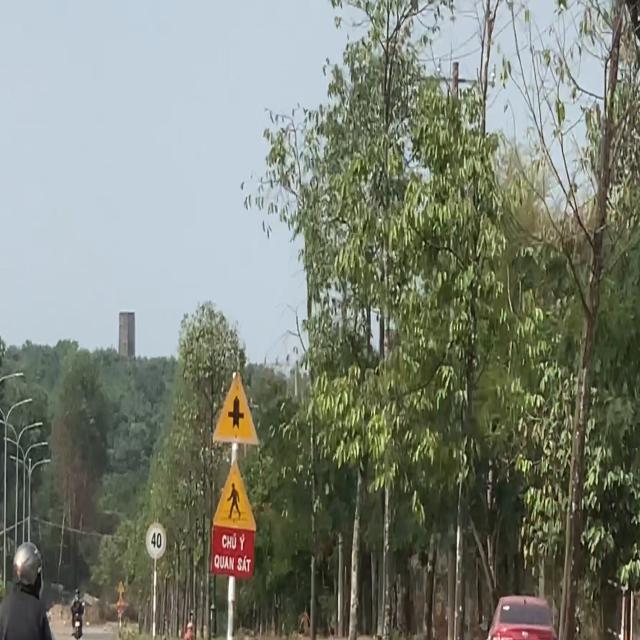Giao voi duong khong uu tien: (209, 364, 261, 450)
Nguoi di bo cat ngang: (210, 454, 258, 535)
Toc do toi da: (146, 520, 168, 561)
